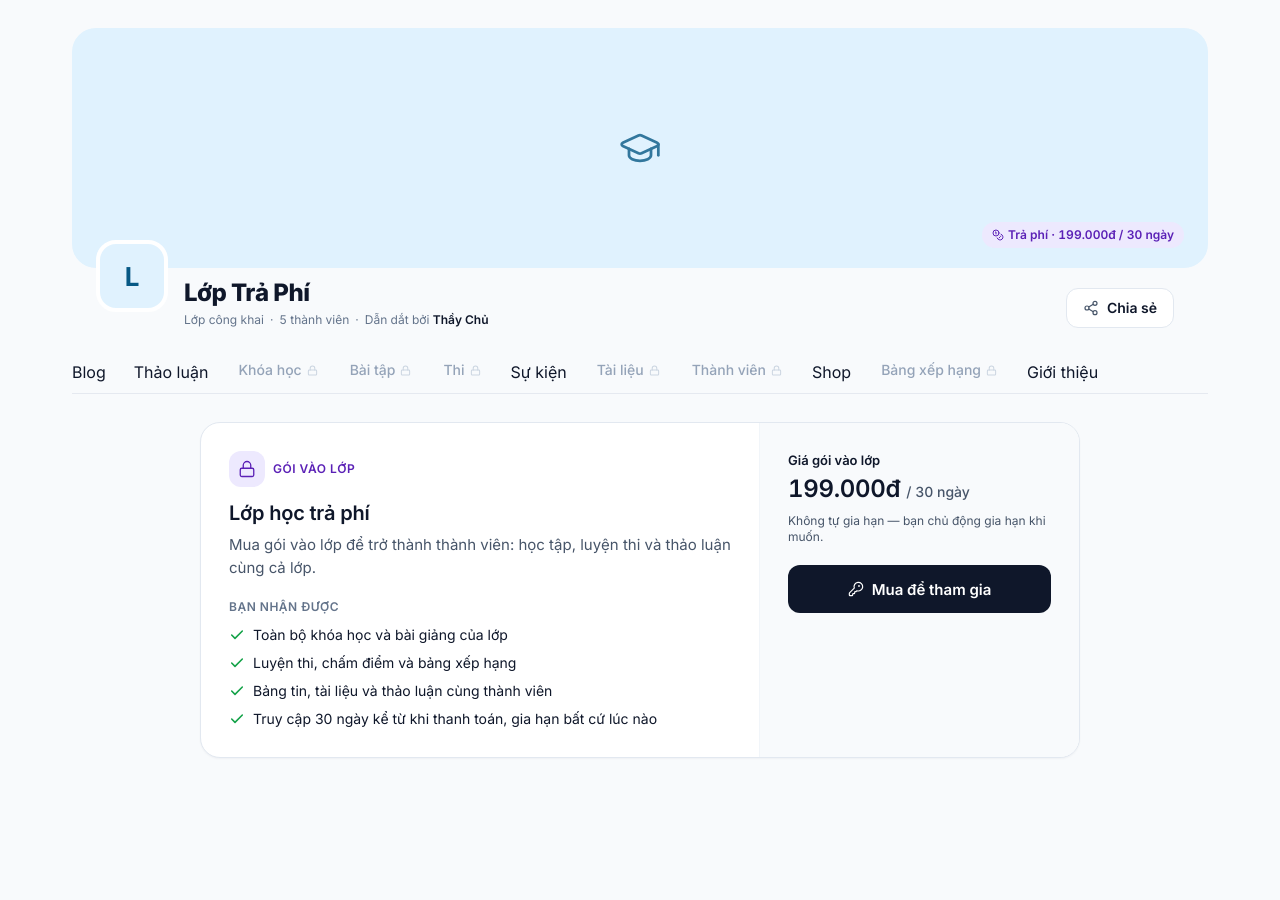
Test case: ClassroomLayout - non-member of a PUBLIC PAID class › buys: POST /orders for the class-access product, shows the order, and becomes a member once the order is paid
Step 1. Click the button "Mua để tham gia" → (920, 589), box [788, 565, 1051, 613]
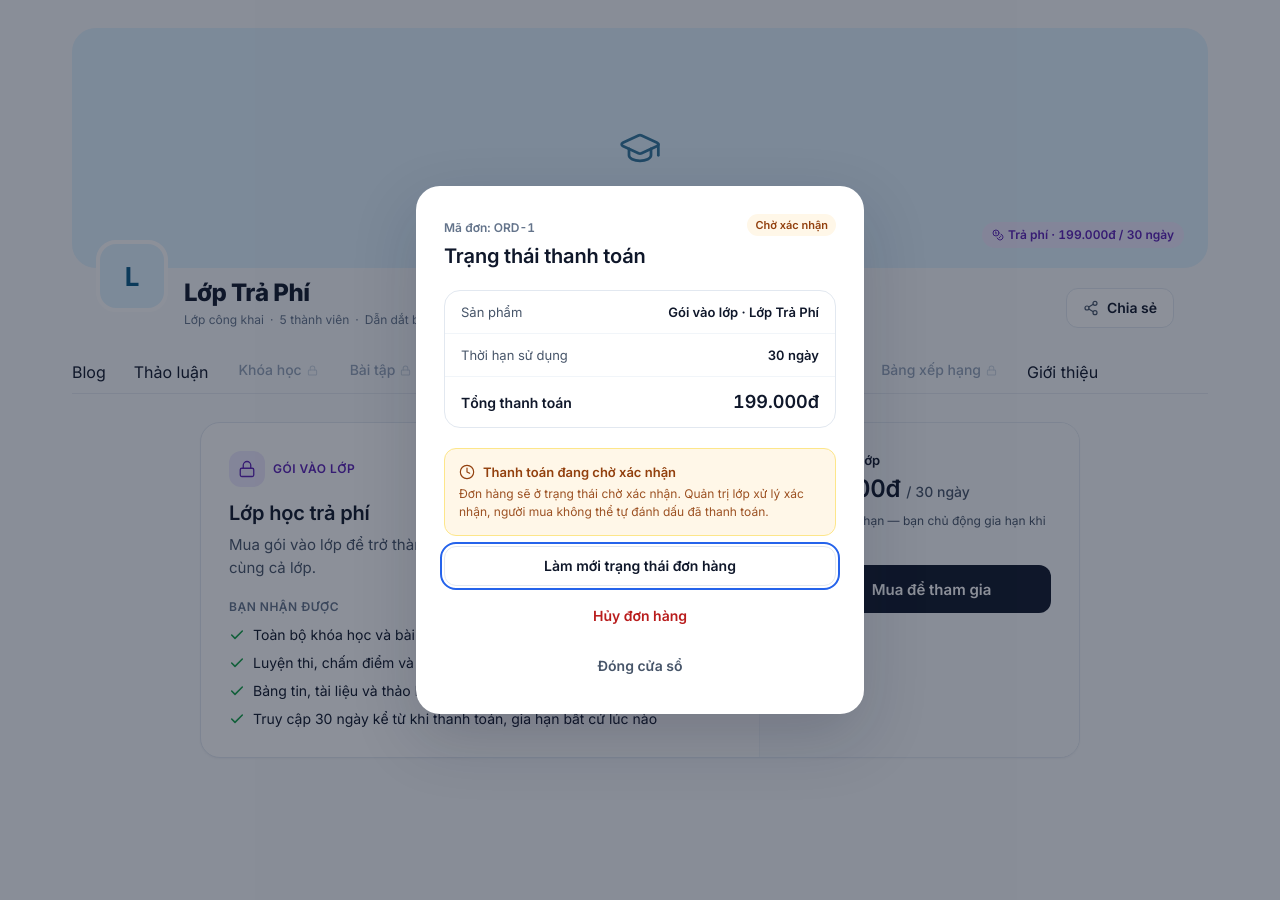
Result: the text "Mã đơn: ORD-1" is shown at [444, 220, 535, 235]
Result: the text "Thanh toán đang chờ xác nhận" is shown at [483, 463, 676, 481]
Result: the text "30 ngày" is shown at [768, 346, 819, 364]
Step 2. Click the button "Làm mới trạng thái đơn hàng" → (640, 566), box [444, 546, 836, 586]
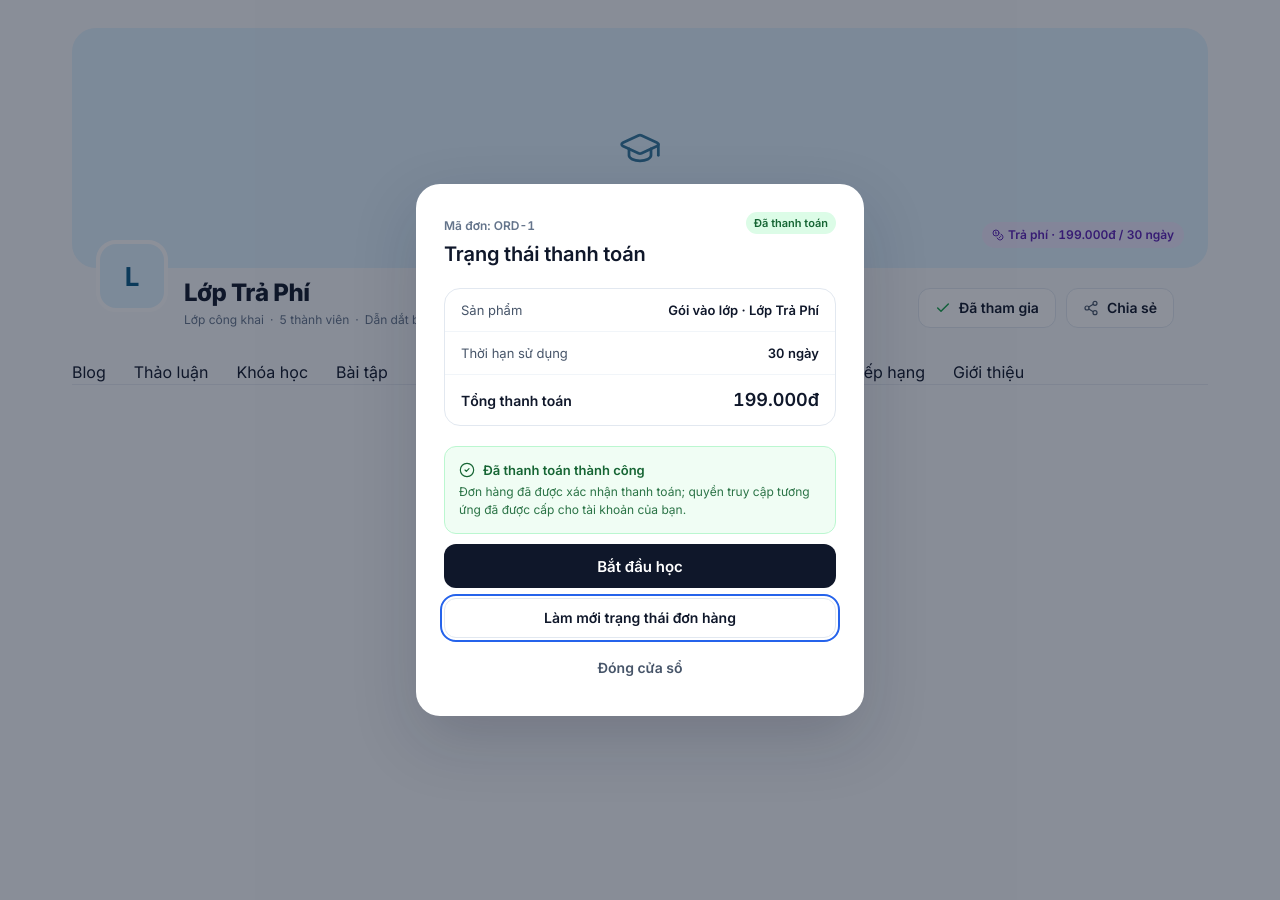
Result: the dialog "Trạng thái thanh toán" is shown at [416, 184, 864, 716]
Result: the text "Đã thanh toán thành công" is shown at [483, 461, 645, 479]
Result: the element with test id "paywall-card" is gone
Step 3. Click the button "Bắt đầu học" → (640, 566), box [444, 544, 836, 588]
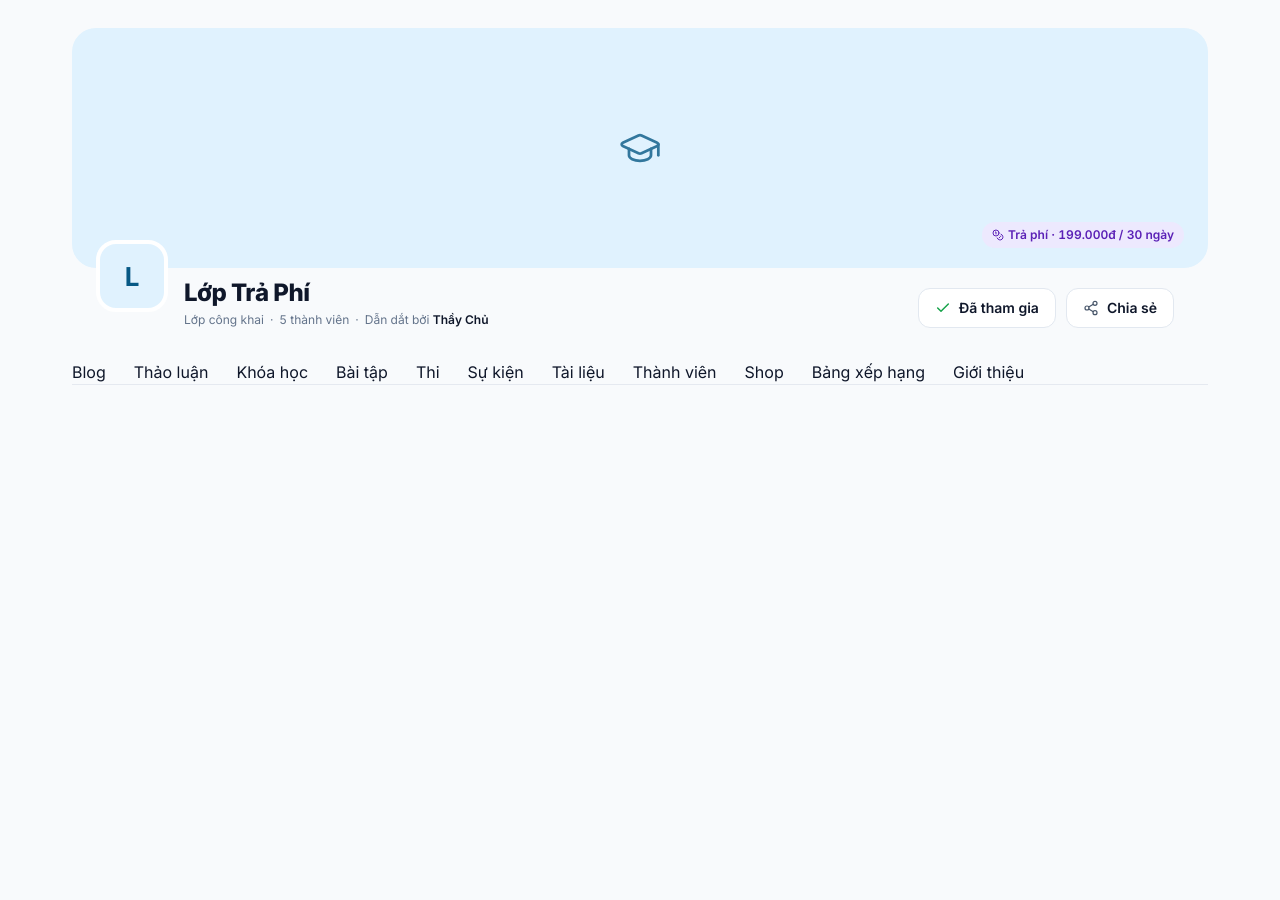
Result: the dialog is gone
